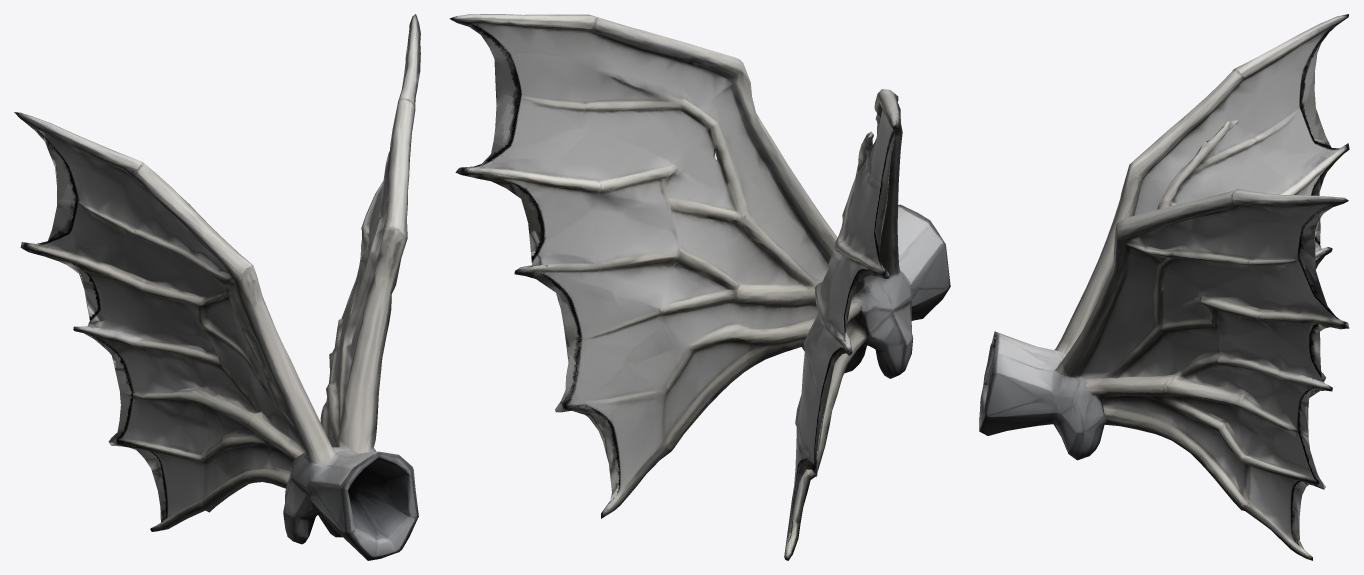
The model's file is fin.glb.
3 views of the same model, side by side, from view 1: azimuth 30°, elevation 25°; view 2: azimuth 150°, elevation 25°; view 3: azimuth 270°, elevation 25° (orthographic). The views are drawn at different scales.
Parts seen in each view (by area): view 1: world; view 2: world; view 3: world.
Boxes of the visible parts, box(x1,y1,x2,y2) form: world: box(14, 14, 420, 560); world: box(449, 14, 950, 560); world: box(979, 14, 1349, 560).
Bounding box in the file's own units: 0.9505 × 0.987 × 0.7957.
Materials: 1 (1 with a texture image).
